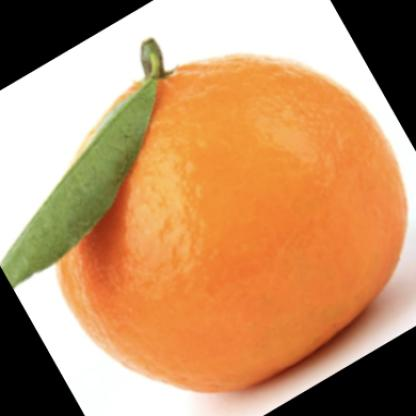fresh: (50, 53, 407, 394)
